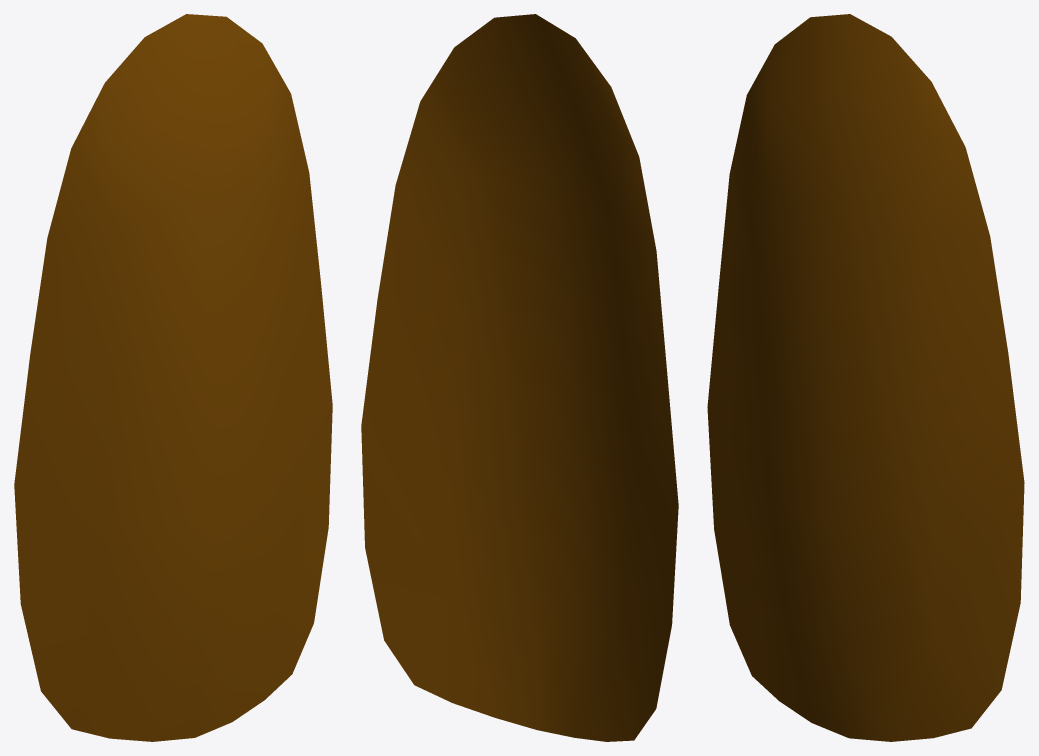
The model's file is MD_nail_oval_HandL.Ring.fbx.
3 views of the same model, side by side, from view 1: azimuth 30°, elevation 25°; view 2: azimuth 150°, elevation 25°; view 3: azimuth 330°, elevation 25° (orthographic).
Visible parts, largest first — view 1: MD_nail_oval_HandL.Ring; view 2: MD_nail_oval_HandL.Ring; view 3: MD_nail_oval_HandL.Ring.
Boxes of the visible parts, <box> form: MD_nail_oval_HandL.Ring: <box>14,14,332,741</box>; MD_nail_oval_HandL.Ring: <box>361,14,678,741</box>; MD_nail_oval_HandL.Ring: <box>707,14,1024,741</box>.
Bounding box in the file's own units: 0.7124 × 1.54 × 0.1365.
